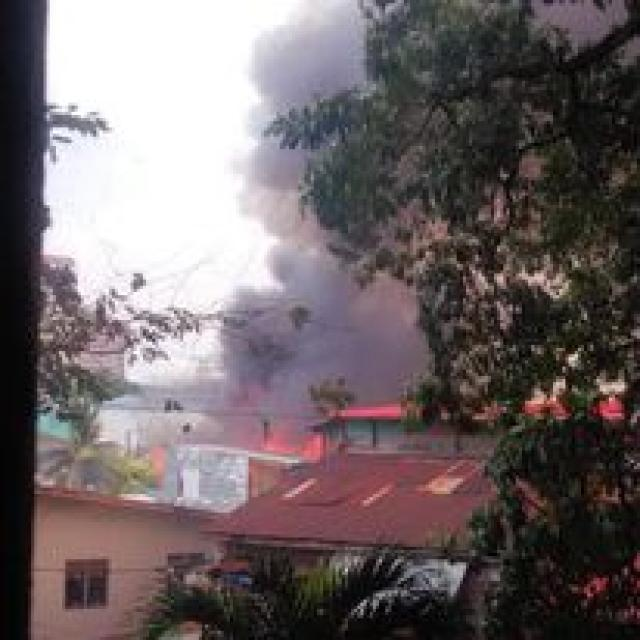Fire: (257, 416, 325, 459)
Smoke: (214, 252, 426, 430)
